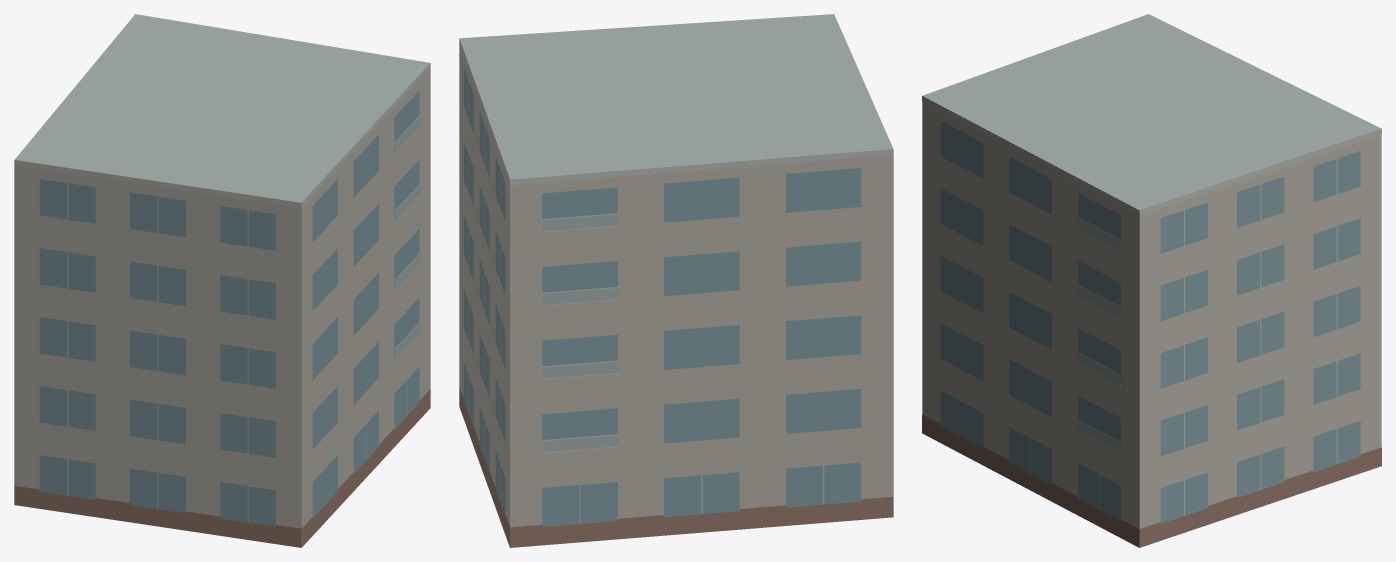
The model's file is survey-upis-32904021.glb.
3 views of the same model, side by side, from view 1: azimuth 30°, elevation 25°; view 2: azimuth 150°, elevation 25°; view 3: azimuth 270°, elevation 25° (orthographic). The views are drawn at different scales.
Visible parts, largest first — view 1: survey-upis-32904021.tmp; view 2: survey-upis-32904021.tmp; view 3: survey-upis-32904021.tmp.
Boxes of the visible parts, bbox=[...] form: survey-upis-32904021.tmp: bbox=[14, 14, 430, 547]; survey-upis-32904021.tmp: bbox=[459, 14, 893, 547]; survey-upis-32904021.tmp: bbox=[922, 14, 1381, 547].
Size of the model in its own units: 19.1 by 15.3 by 18.89.
